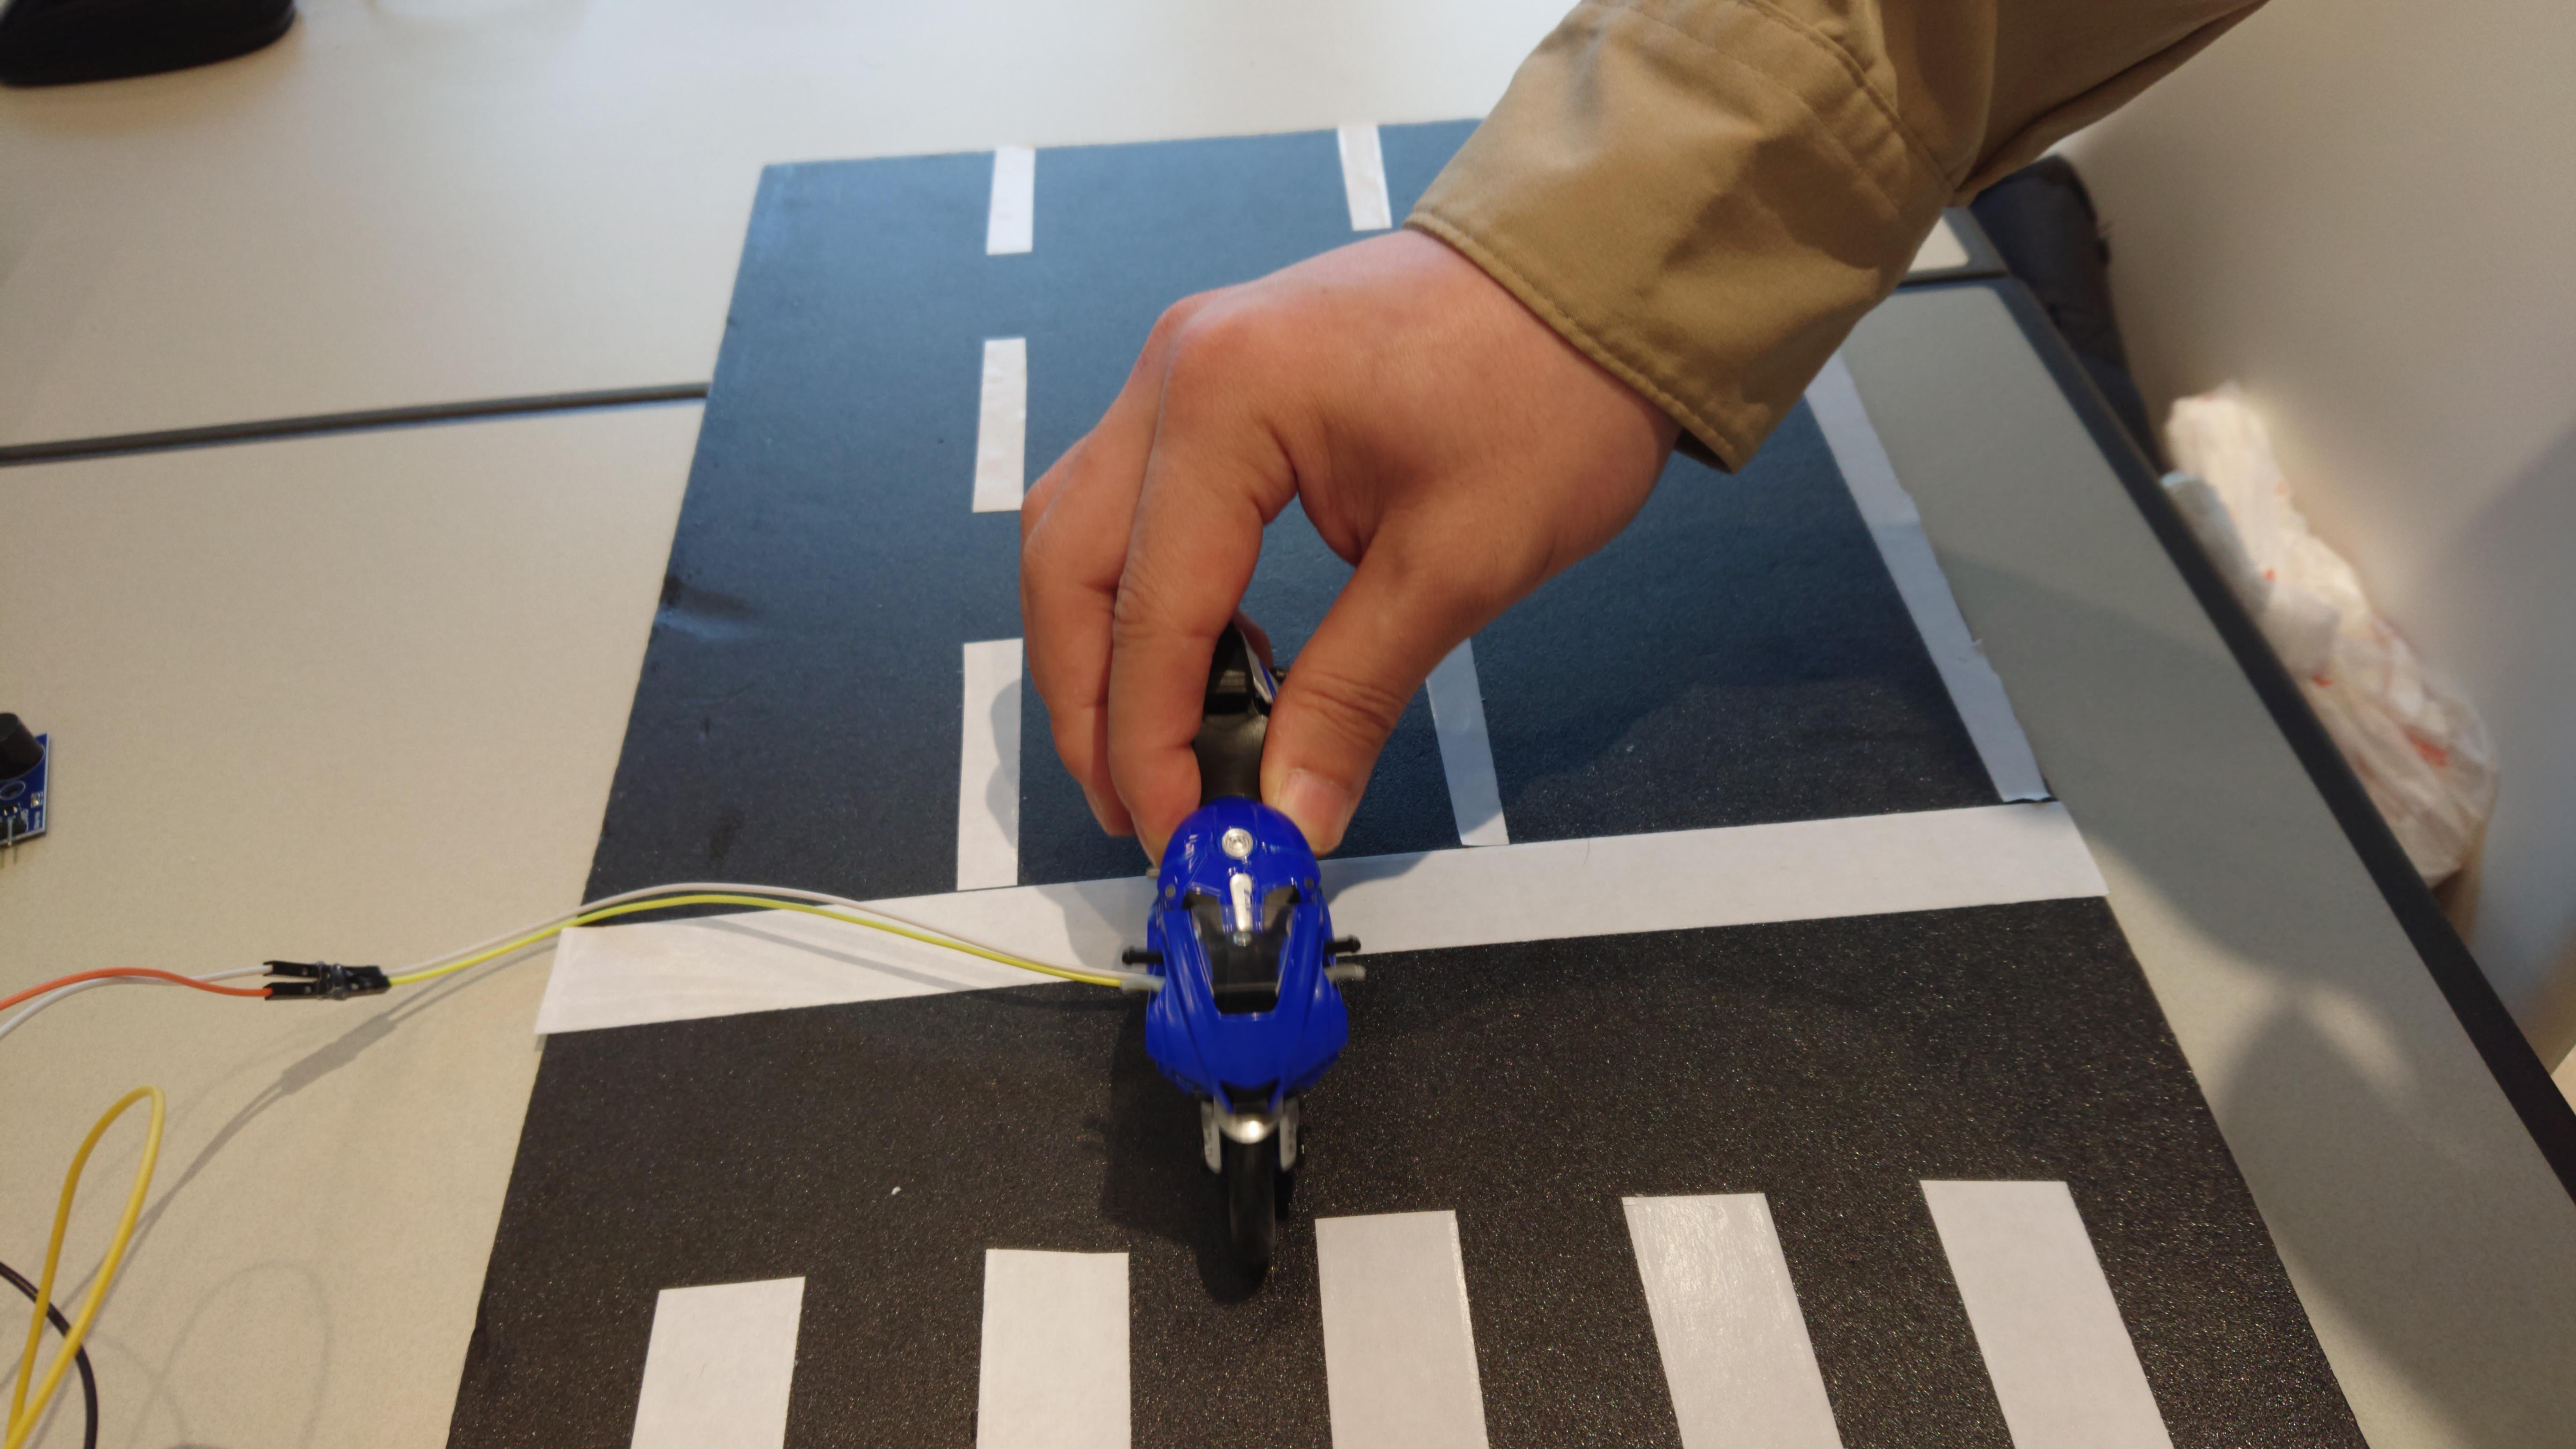Motorcycle: (1116, 626, 1359, 1233)
